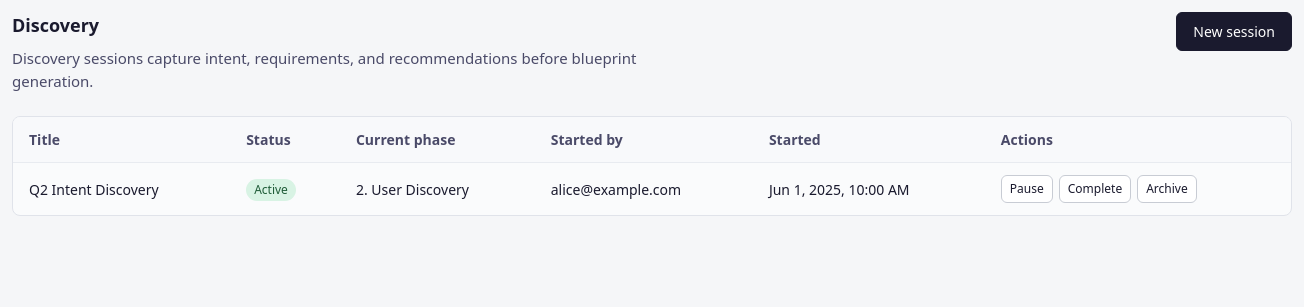
Test: DiscoveryPage › shows action error when status update fails
Click the button "Pause" at (1027, 189), box [1001,175,1053,203]
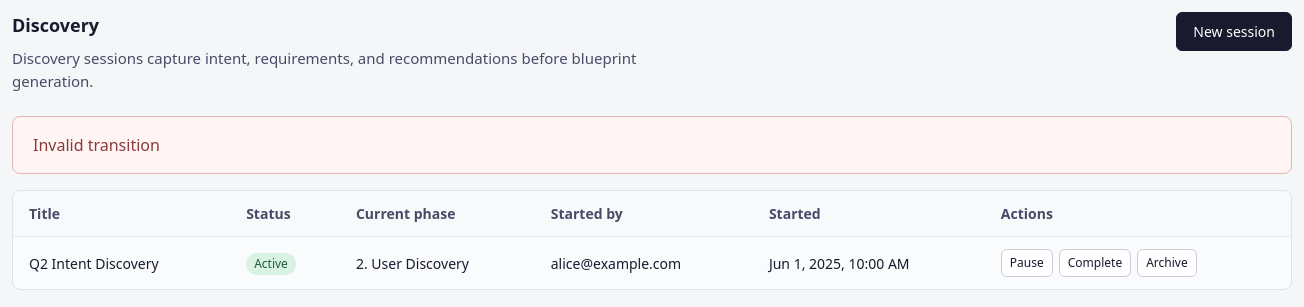
Now the message reads "Invalid transition", box [33,134,160,156]
